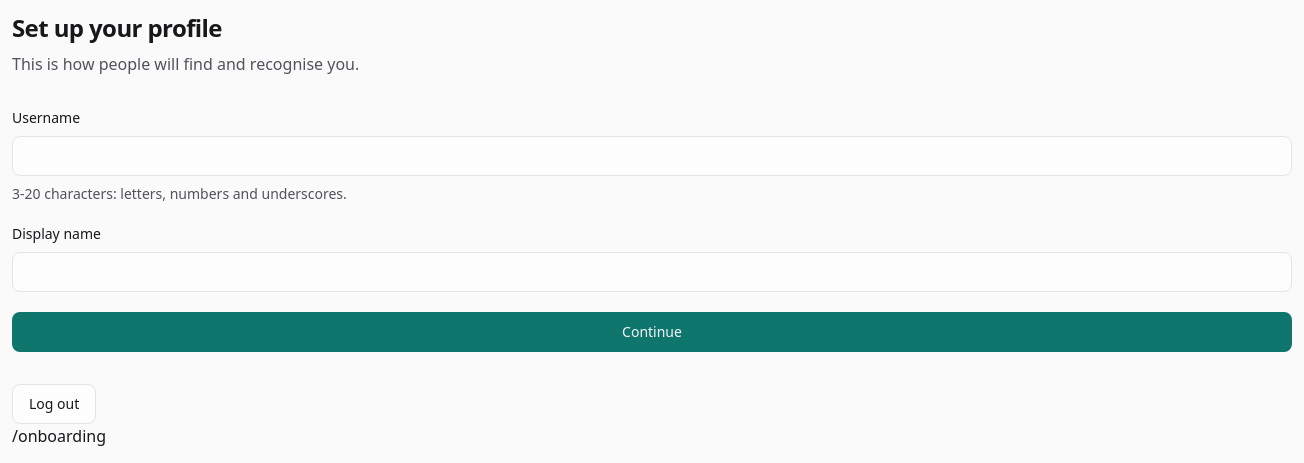
Test: Onboarding › shows a taken username on the username field
This screenshot has width=1304, height=463.
In the field labelled "Username": x=652, y=156 x1=12 y1=136 x2=1292 y2=176, type "maya"
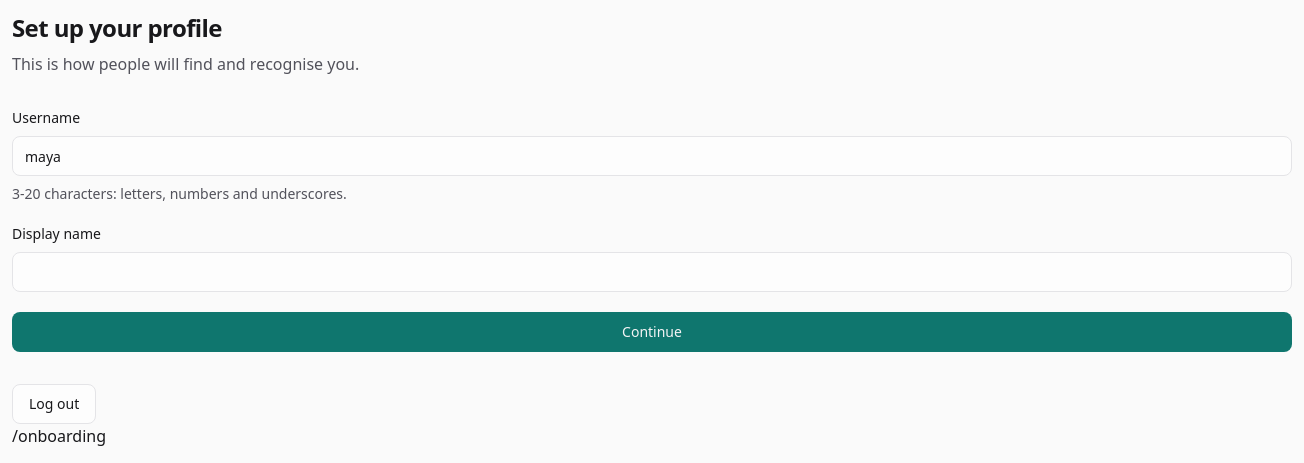
In the field labelled "Display name": x=652, y=272 x1=12 y1=252 x2=1292 y2=292, type "Maya"
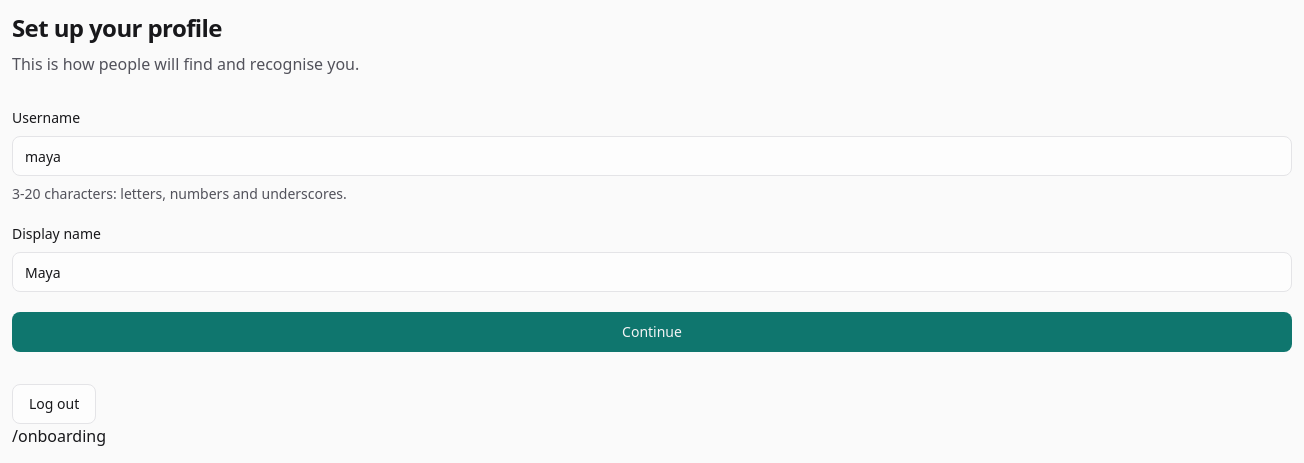
Click the button "Continue": x=652, y=332 x1=12 y1=312 x2=1292 y2=352
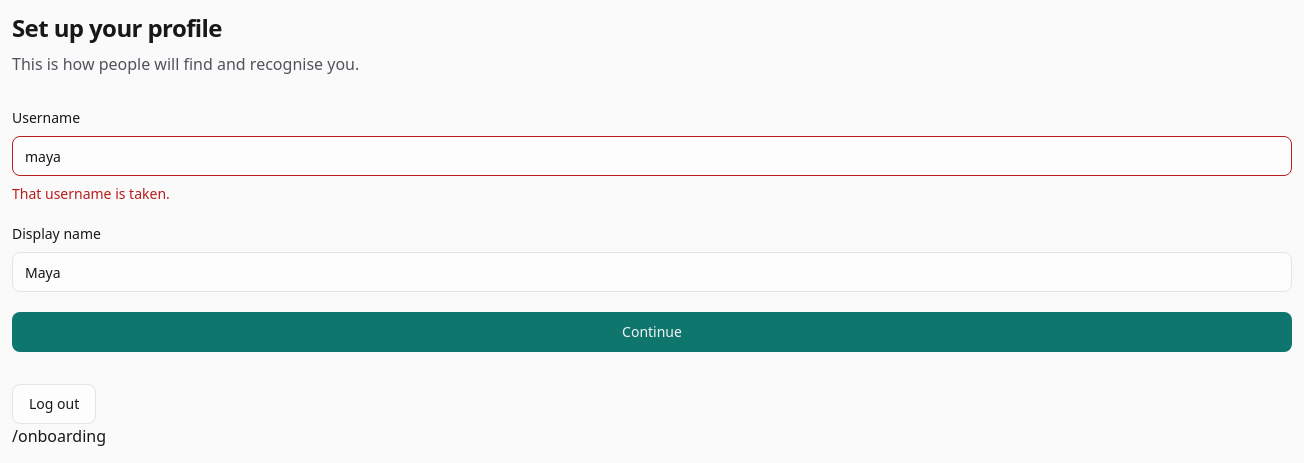
Now the text "That username is taken." is shown, box x1=12 y1=184 x2=170 y2=203
